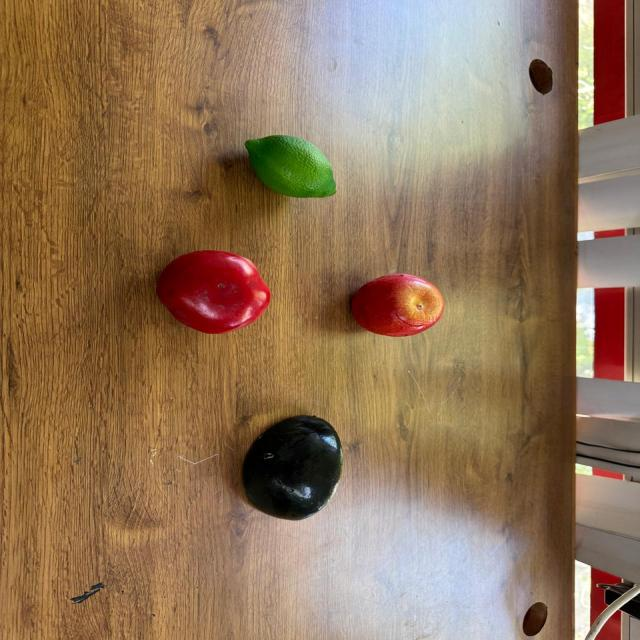apple: (351, 274, 444, 336)
lemon: (245, 135, 336, 198)
tomato: (156, 250, 270, 334)
watermelon: (241, 414, 345, 521)
